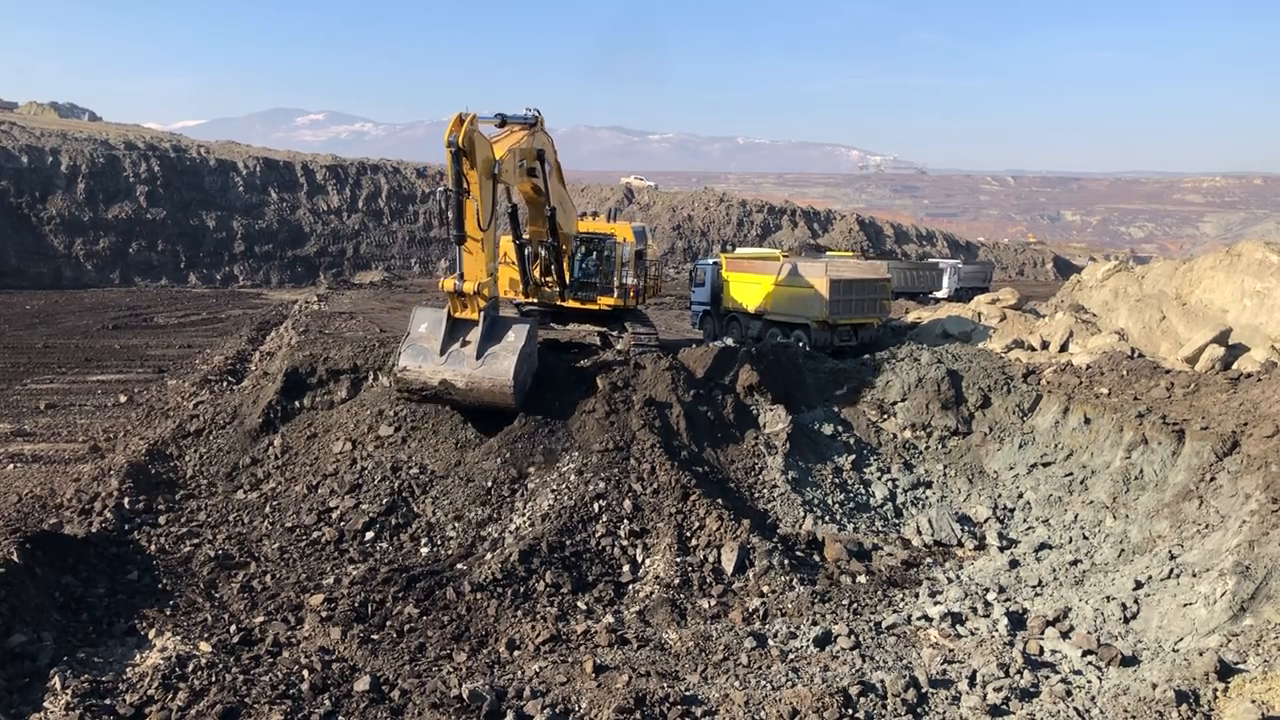empty: (395, 300, 547, 421)
